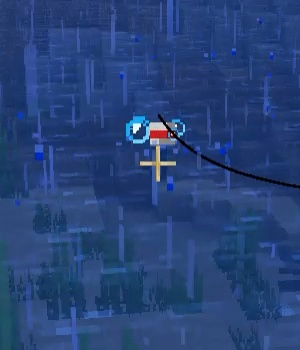up: (146, 119, 177, 160)
